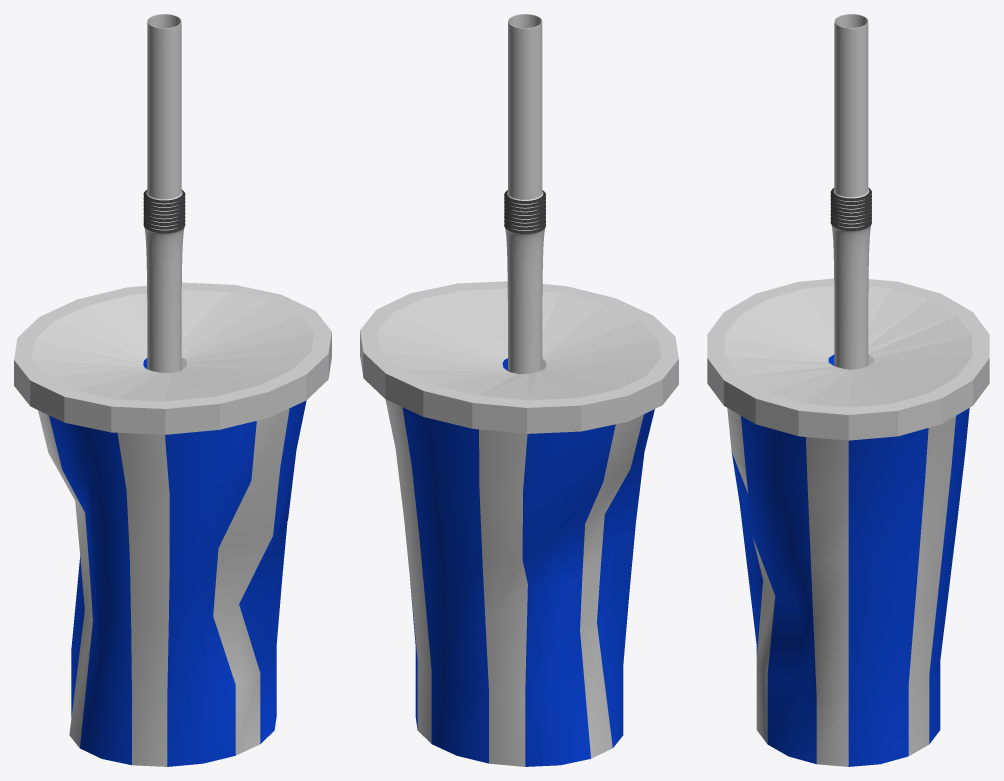
The model's file is itemBebida.FBX.
3 renders of one model, left to right at view 1: azimuth 30°, elevation 25°; view 2: azimuth 150°, elevation 25°; view 3: azimuth 270°, elevation 25°, orthographic.
Visible parts, largest first — view 1: Cylinder001, Tube001; view 2: Cylinder001, Tube001; view 3: Cylinder001, Tube001.
Part boxes in pixels (box(x1,y1,x2,y2)): Cylinder001: box(14, 282, 331, 766); Tube001: box(143, 14, 185, 372); Cylinder001: box(360, 281, 678, 766); Tube001: box(504, 14, 545, 373); Cylinder001: box(707, 278, 989, 766); Tube001: box(830, 14, 871, 369).
Size of the model in its own units: 22.82 by 53.91 by 19.77.
